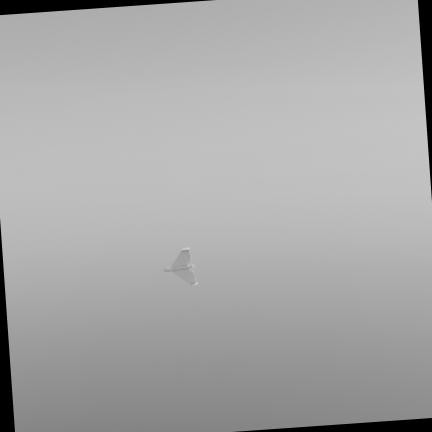Shahed: (164, 247, 197, 283)
